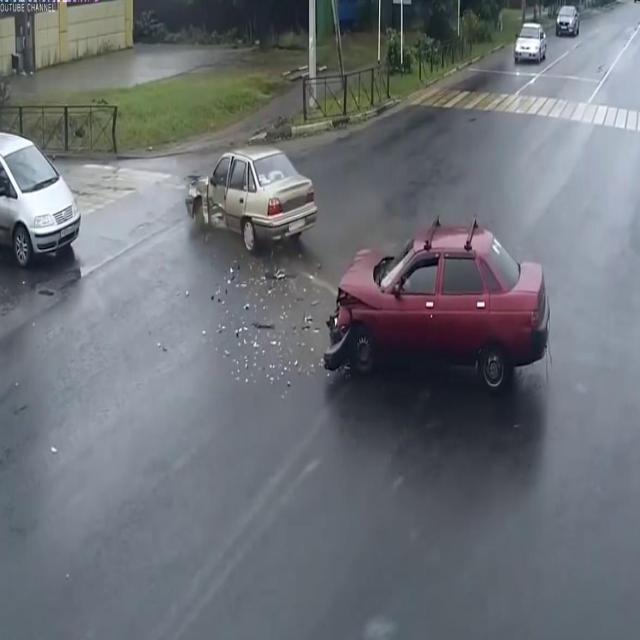accident: (180, 135, 560, 413)
